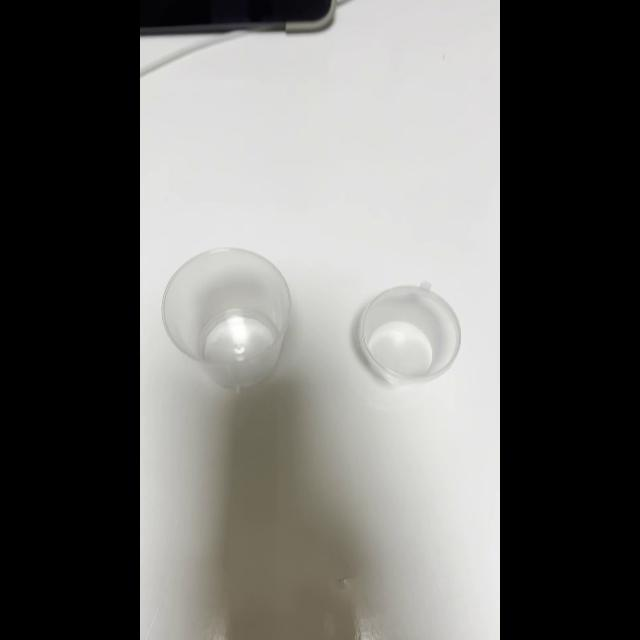clean: (160, 247, 298, 397), (354, 271, 468, 393)
